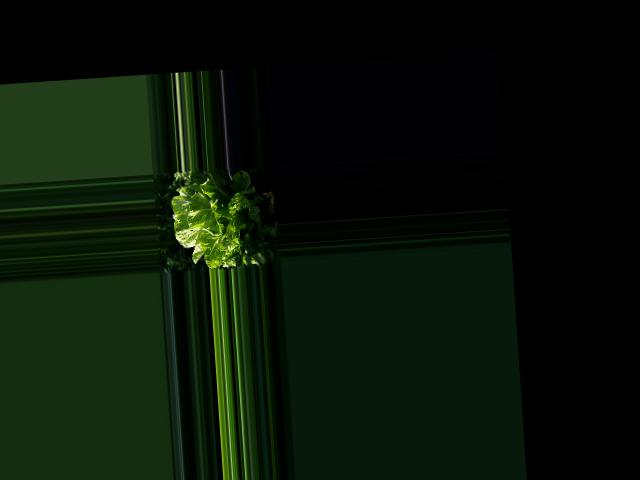lettuce: (171, 169, 260, 261)
